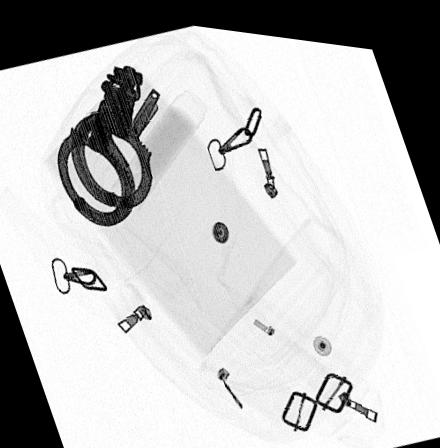HandCuffs: (56, 60, 153, 225)
